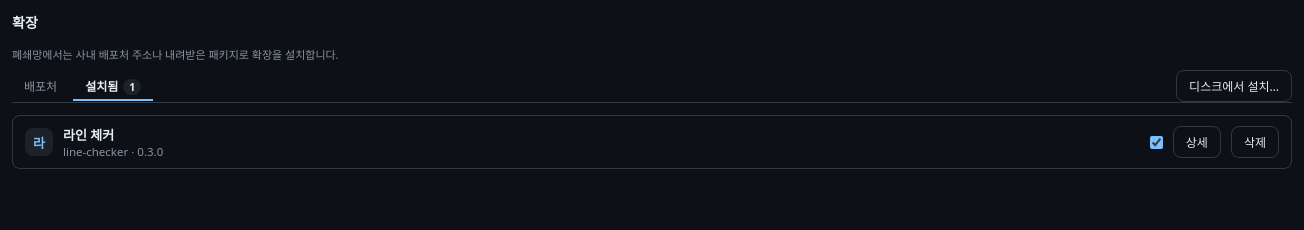
it: 삭제 › 모르는 사유는 코드를 그대로 보여준다
The width and height of the screenshot is (1304, 230).
Click the button "삭제" at (1255,142), box [1231,126,1279,158]
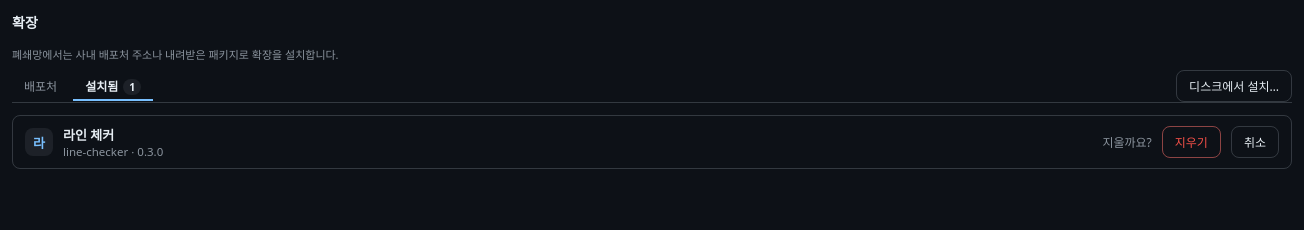
Click the button "지우기" at (1191,142), box [1162,126,1221,158]
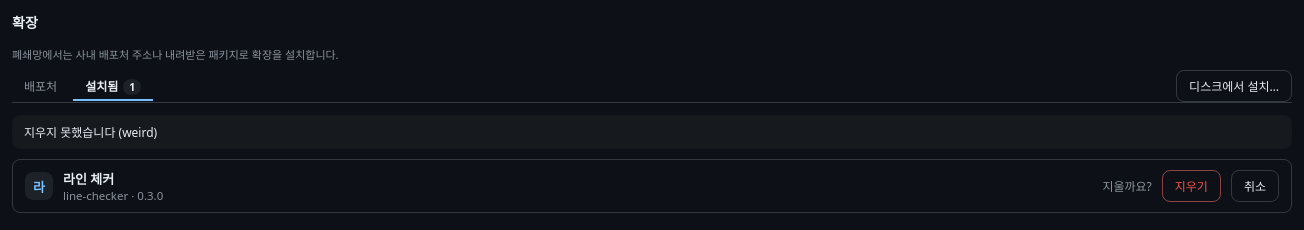
Now the text "지우지 못했습니다 (weird)" is shown, box [12,115,1292,149]
